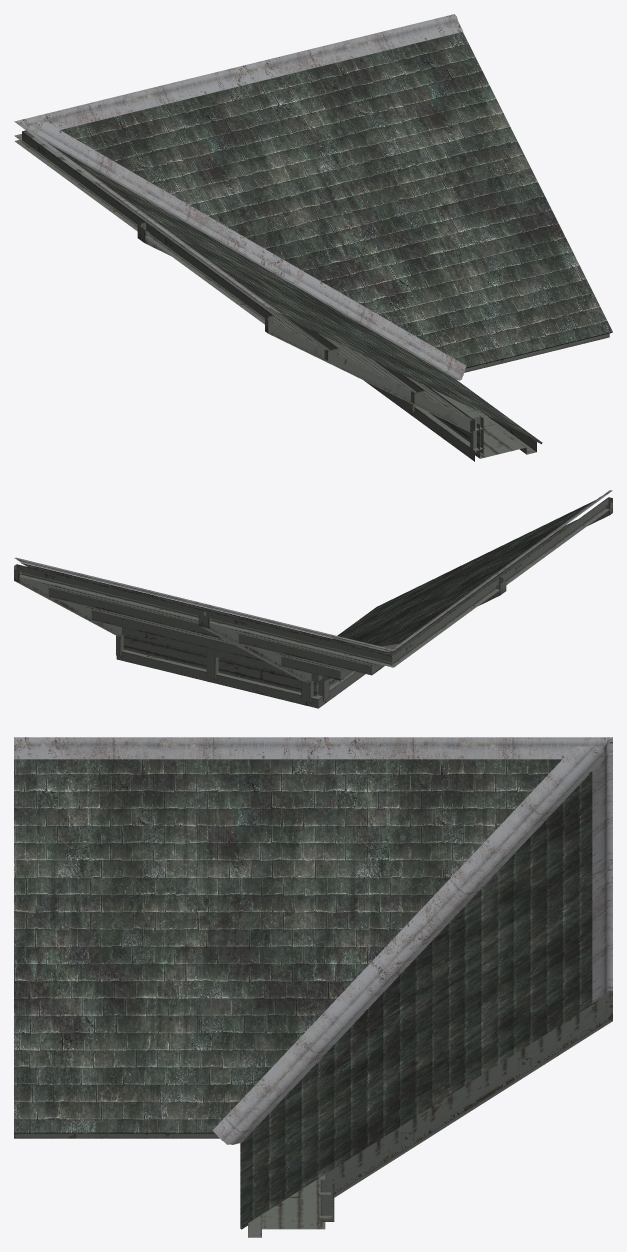
File: SM_Roof600x600Corner.FBX
3 views of the same model, one above another, from view 1: azimuth 30°, elevation 25°; view 2: azimuth 150°, elevation 25°; view 3: azimuth 270°, elevation 25° (orthographic). The views are drawn at different scales.
Visible parts, largest first — view 1: SM_Roof600x600Corner; view 2: SM_Roof600x600Corner; view 3: SM_Roof600x600Corner.
Boxes of the visible parts, <box> form: SM_Roof600x600Corner: <box>14,14,612,461</box>; SM_Roof600x600Corner: <box>14,490,612,708</box>; SM_Roof600x600Corner: <box>14,737,612,1237</box>.
Bounding box in the file's own units: 800 × 364 × 800.
